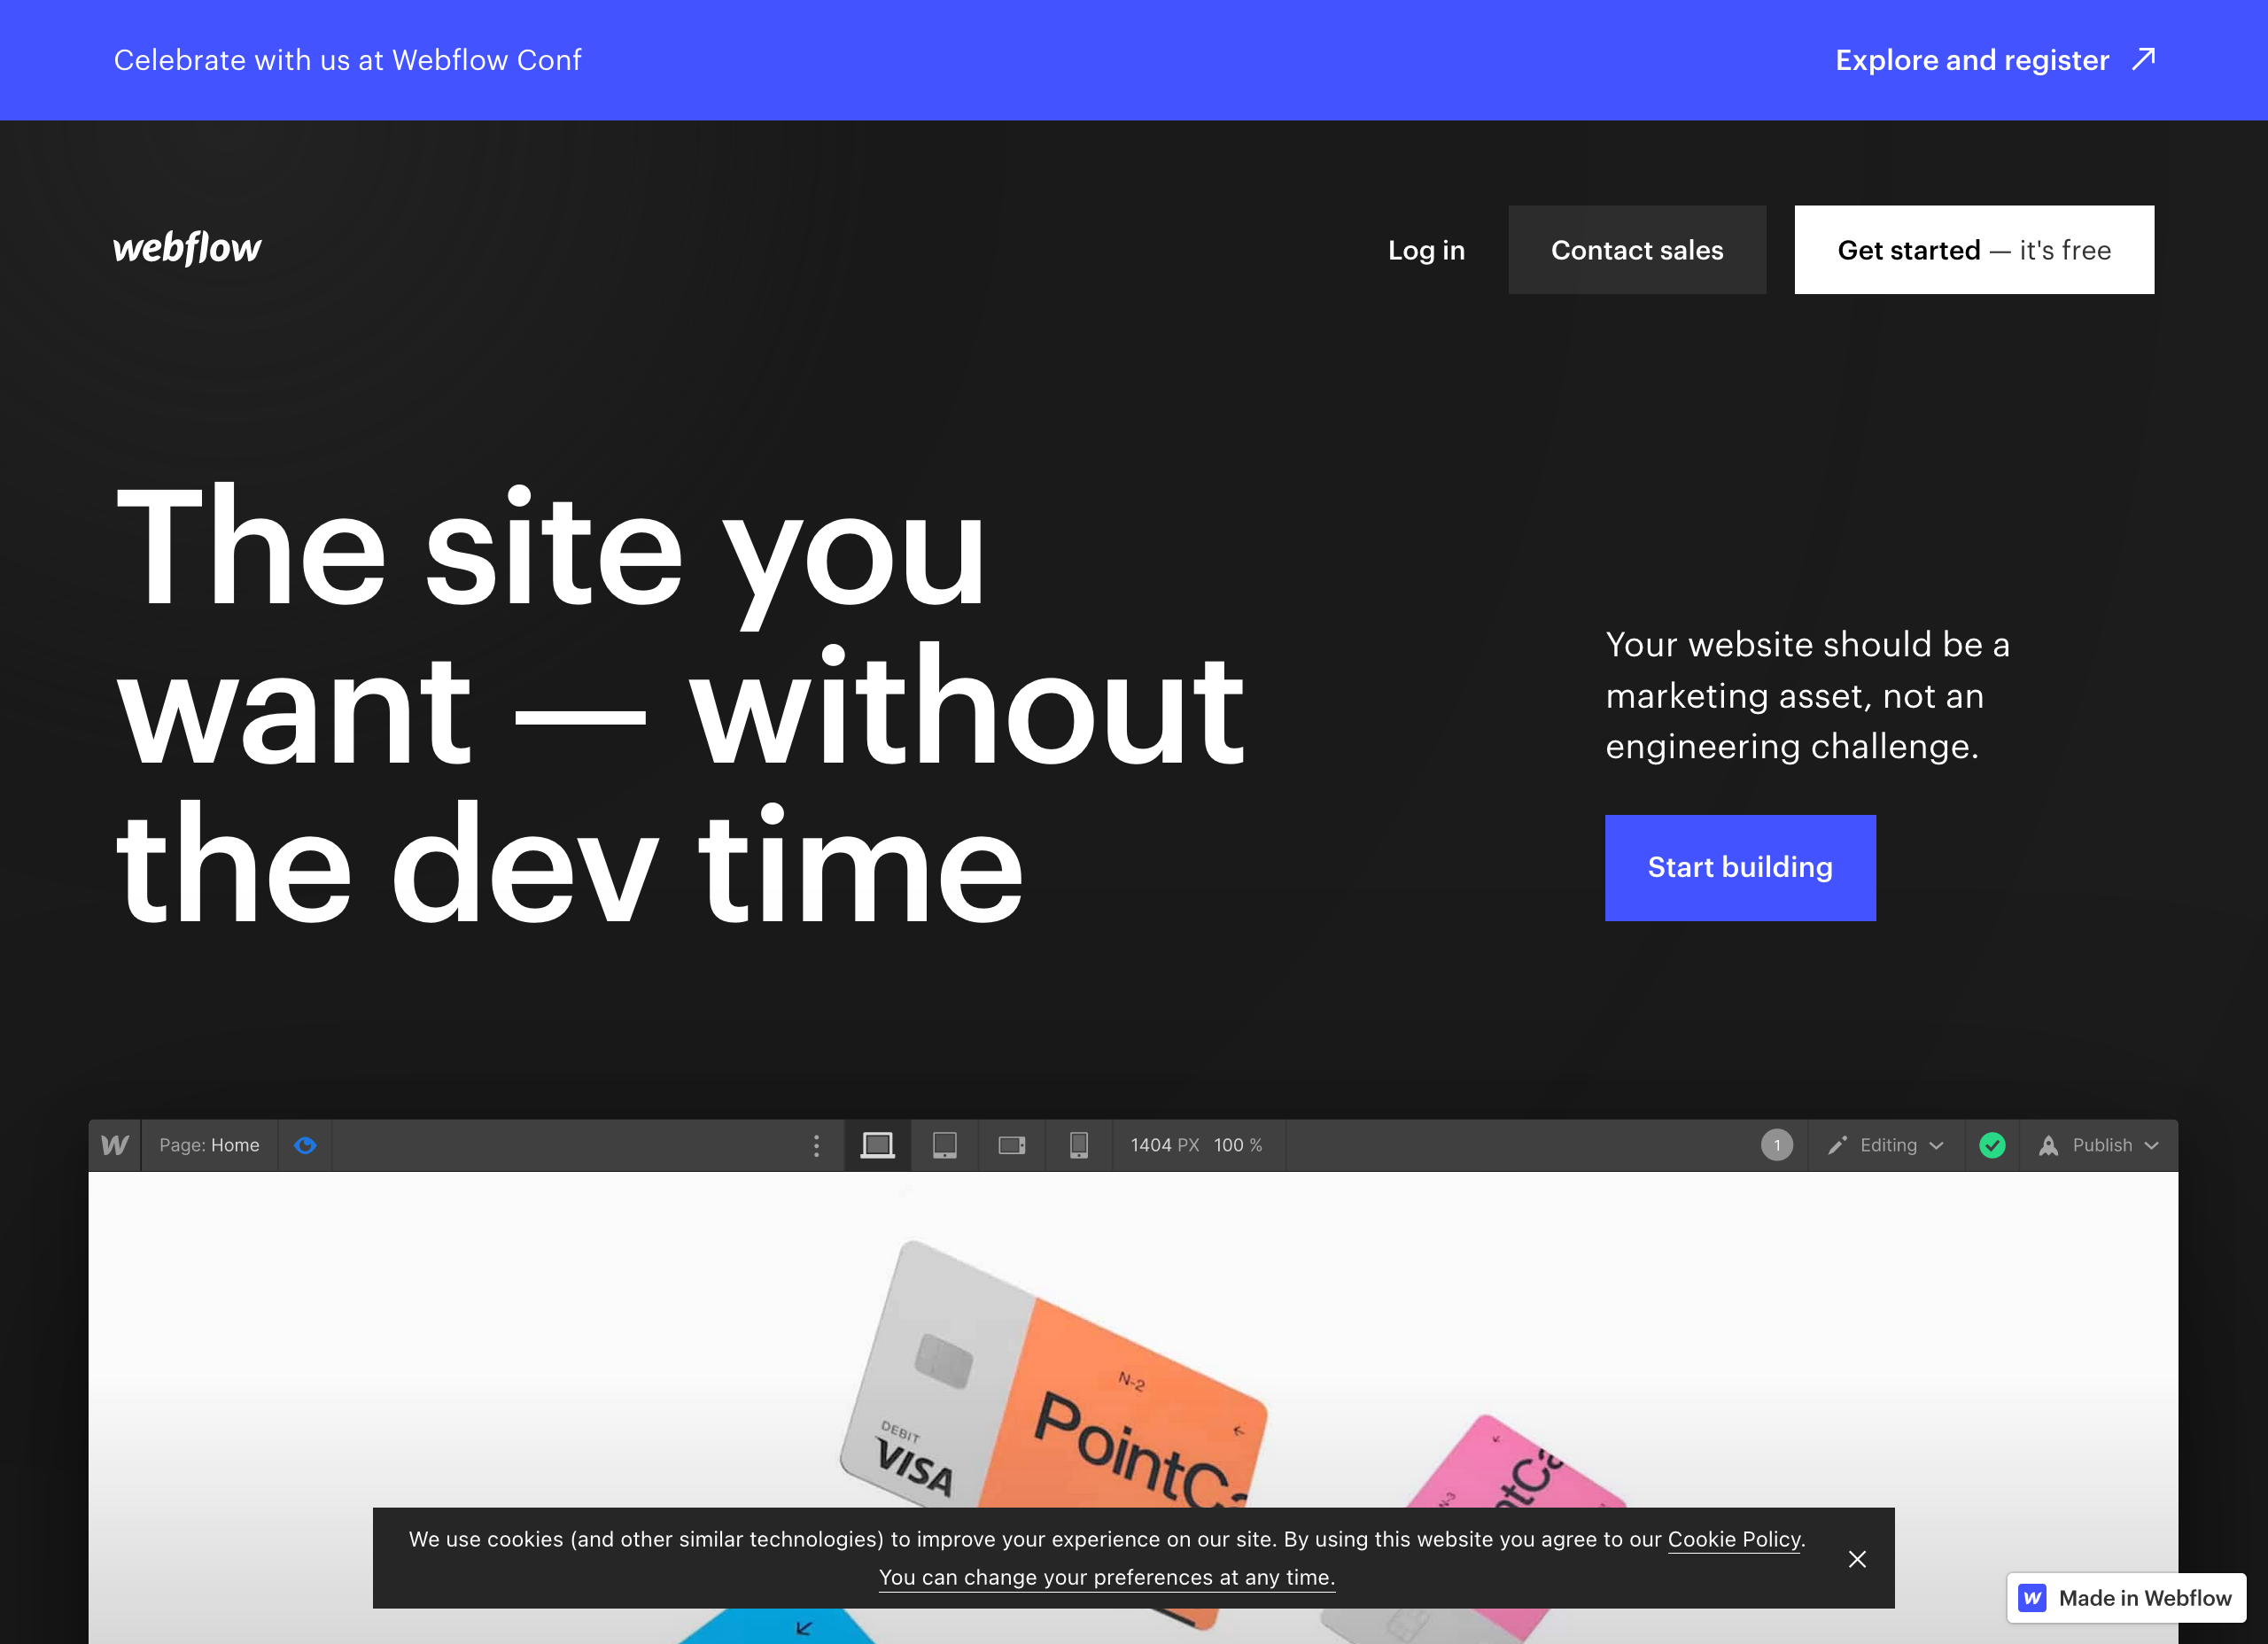Login: (1370, 211, 1498, 303)
